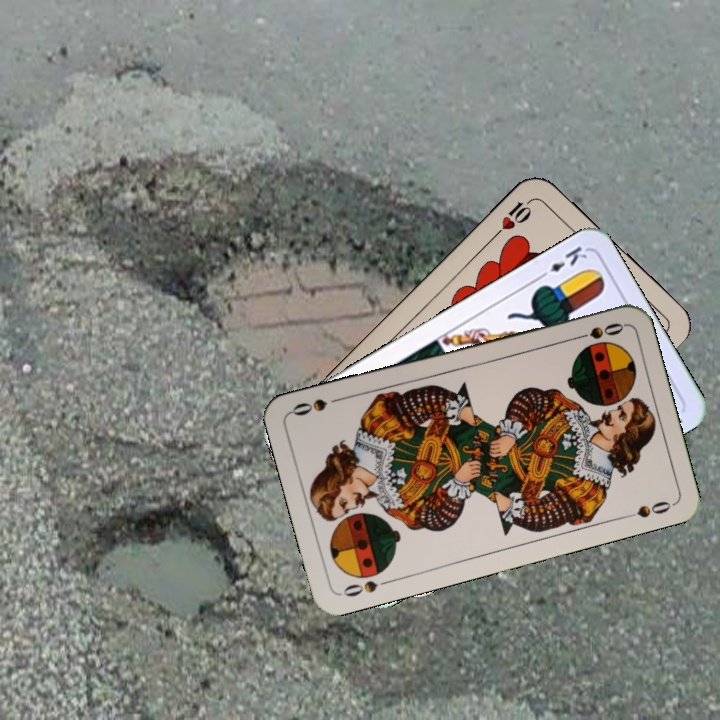EK: (534, 242, 590, 282)
H10: (490, 193, 537, 239)
SO: (568, 318, 627, 343), (337, 575, 395, 600)
